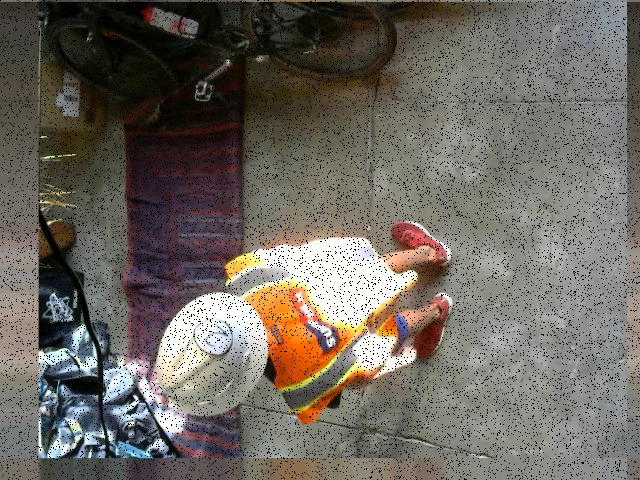two: (192, 317, 231, 355)
